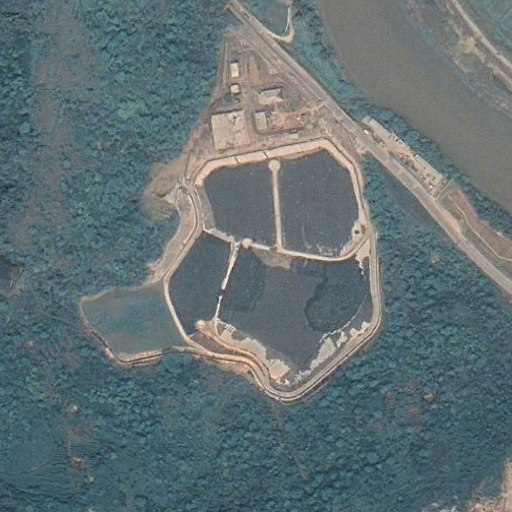lf: (162, 138, 382, 405)
